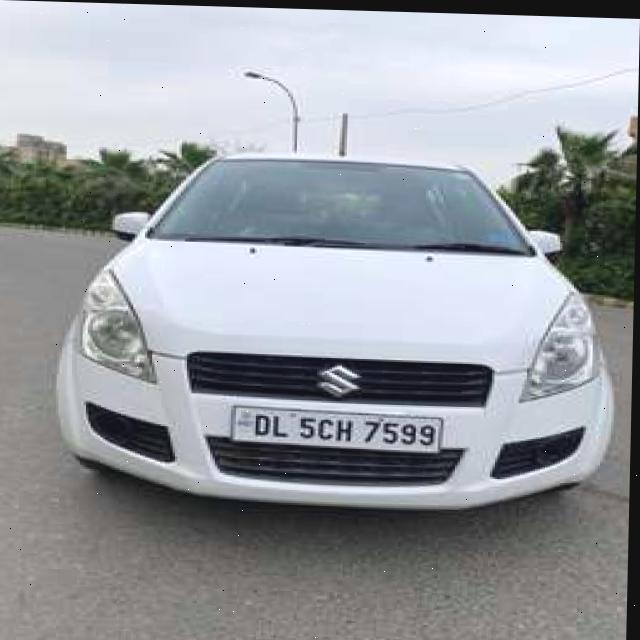plate: (230, 402, 446, 450)
